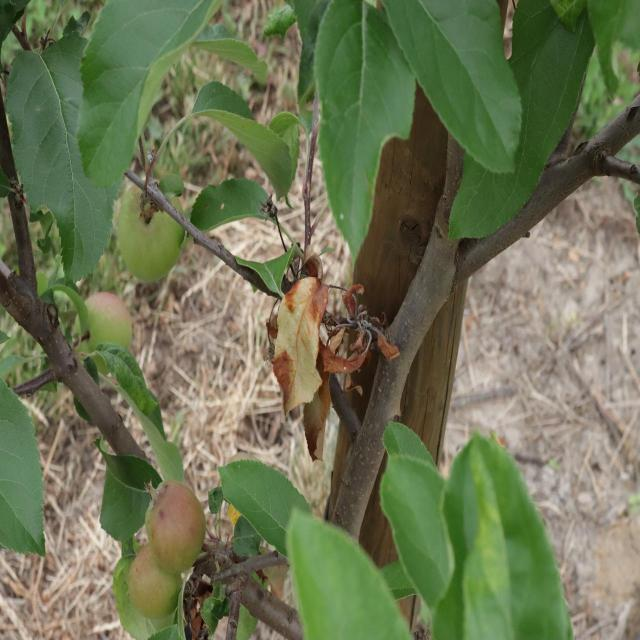-FireBlight-: (276, 269, 390, 399)
